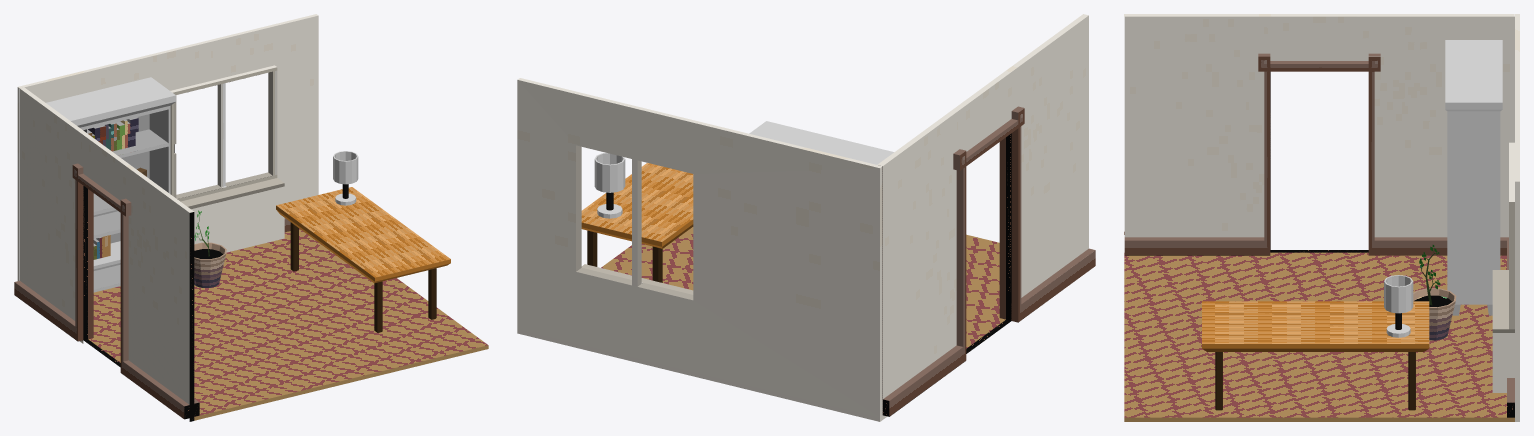
The model's file is pixel_room.glb.
3 views of the same model, side by side, from view 1: azimuth 30°, elevation 25°; view 2: azimuth 150°, elevation 25°; view 3: azimuth 270°, elevation 25° (orthographic). The views are drawn at different scales.
Parts seen in each view (by area): view 1: Floor, SideWall.001, BackWall, Bookcase, Desk, SideWall, Plant, Lamp; view 2: BackWall, SideWall.001, Desk, Floor, Bookcase, Lamp, SideWall; view 3: SideWall, Floor, Bookcase, Desk, BackWall, Plant, SideWall.001, Lamp.
Part boxes in pixels (<box>): Floor: <box>88,229,488,420</box>; SideWall.001: <box>14,87,194,421</box>; BackWall: <box>17,14,318,280</box>; Bookcase: <box>46,77,175,292</box>; Desk: <box>276,187,450,332</box>; SideWall: <box>80,186,199,416</box>; Plant: <box>194,210,226,287</box>; Lamp: <box>333,151,358,205</box>; BackWall: <box>517,78,882,421</box>; SideWall.001: <box>877,14,1095,416</box>; Desk: <box>581,163,693,282</box>; Floor: <box>601,227,1005,348</box>; Bookcase: <box>749,121,893,164</box>; Lamp: <box>594,152,625,218</box>; SideWall: <box>882,137,1005,419</box>; SideWall: <box>1124,16,1514,255</box>; Floor: <box>1124,252,1514,421</box>; Bookcase: <box>1445,40,1502,315</box>; Desk: <box>1202,301,1429,410</box>; BackWall: <box>1492,14,1519,421</box>; Plant: <box>1413,245,1456,340</box>; SideWall.001: <box>1124,14,1514,252</box>; Lamp: <box>1384,275,1413,337</box>.
Size of the model in its own units: 4.19 by 2.75 by 4.1.
Materials: 11 (6 with a texture image).
